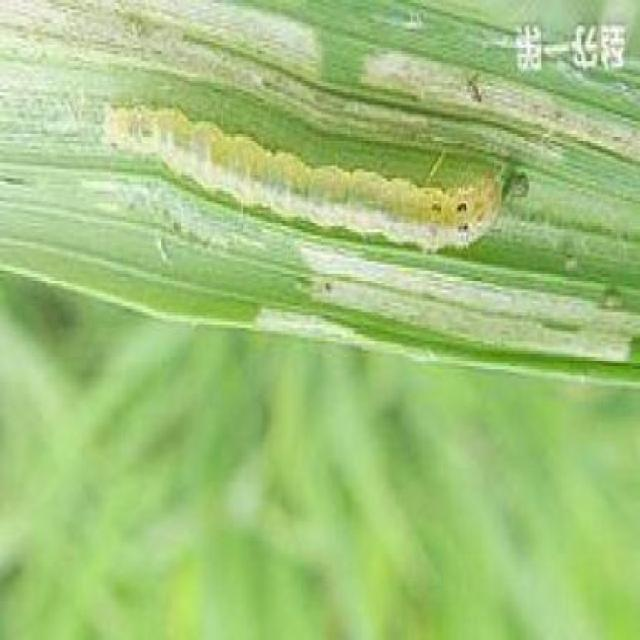leaf-folder: (102, 92, 527, 265)
